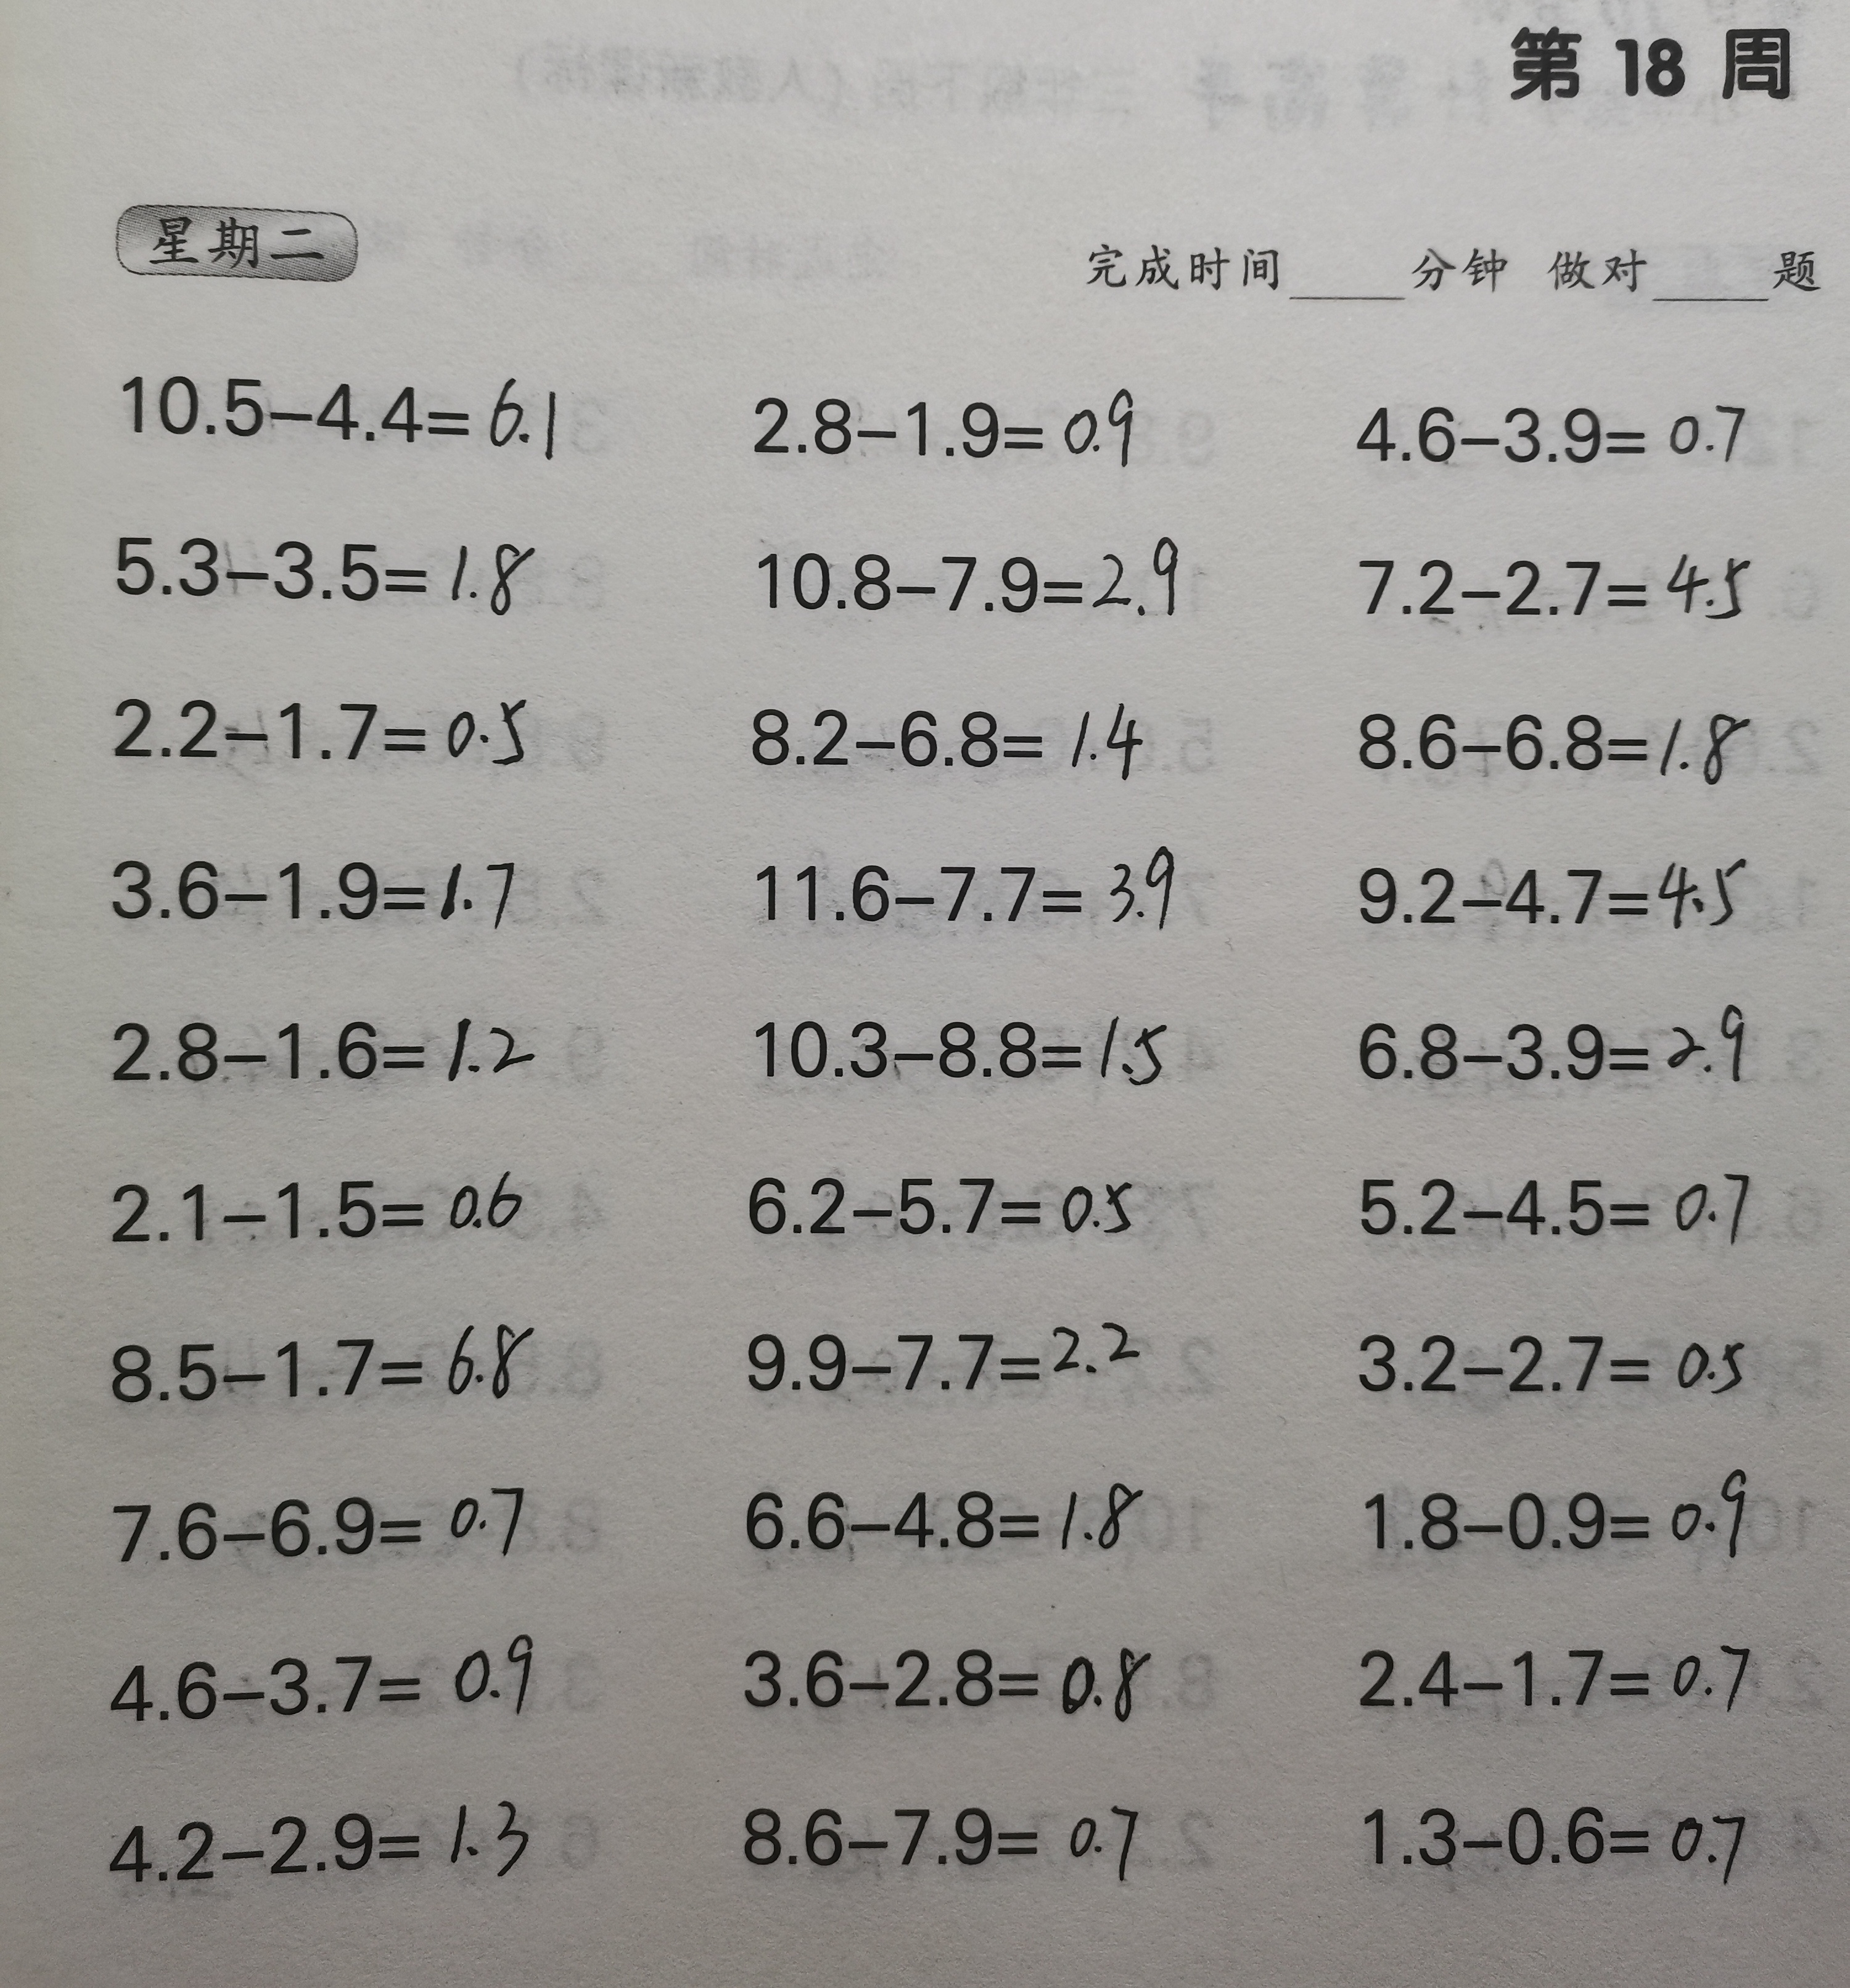equation: (742, 970, 1186, 1108), (104, 345, 574, 474), (96, 1617, 567, 1744), (1359, 1774, 1774, 1916), (736, 347, 1161, 485), (97, 830, 553, 955), (96, 1304, 555, 1427), (97, 502, 555, 625), (91, 981, 564, 1100), (97, 1781, 546, 1906), (740, 513, 1197, 634), (96, 1458, 561, 1577), (730, 1292, 1174, 1413), (727, 1783, 1157, 1906), (1350, 1453, 1759, 1583), (100, 662, 551, 779), (96, 1140, 546, 1257), (1338, 681, 1774, 800), (1344, 979, 1767, 1100), (738, 825, 1206, 934), (1352, 1621, 1767, 1743), (725, 1623, 1161, 1738), (1350, 1151, 1769, 1270), (1350, 1298, 1765, 1417), (1346, 362, 1754, 483), (738, 678, 1180, 790), (736, 1140, 1167, 1253), (1348, 524, 1769, 638), (725, 1459, 1159, 1570), (1342, 836, 1756, 947)
